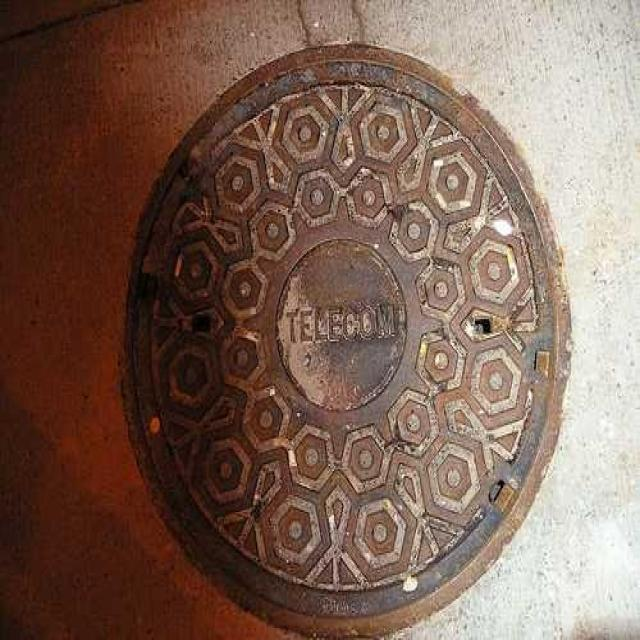manhole: (124, 45, 569, 634)
